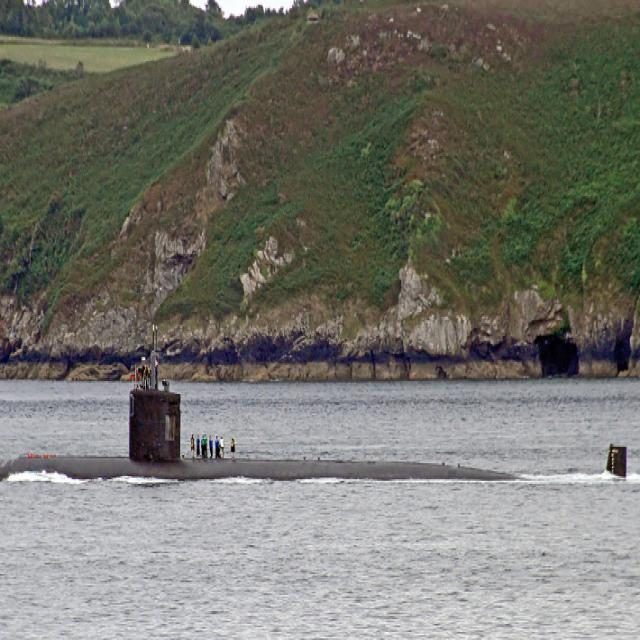submarine: (1, 322, 627, 483)
